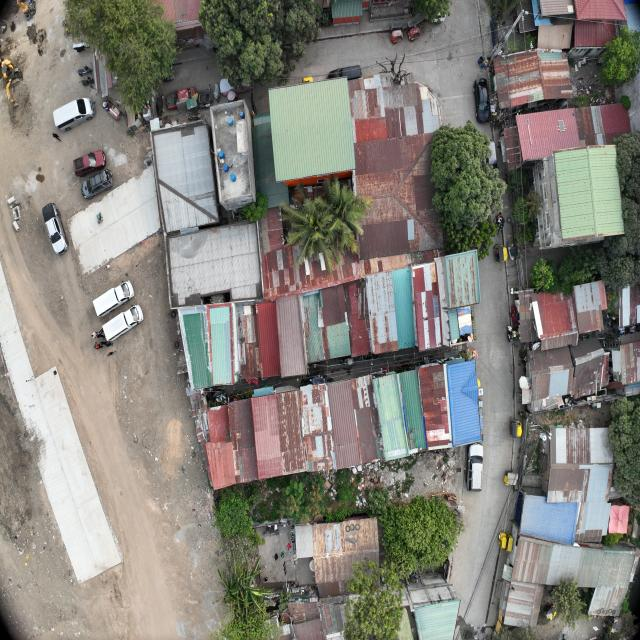Tree: (63, 0, 178, 118), (200, 0, 324, 90), (431, 120, 507, 232), (283, 176, 372, 271), (384, 494, 466, 586), (341, 557, 405, 640), (215, 547, 281, 625), (609, 394, 640, 513), (446, 218, 498, 271), (594, 237, 640, 295), (600, 25, 640, 91), (217, 487, 260, 547), (553, 575, 593, 634), (605, 194, 640, 260), (280, 480, 326, 526), (611, 133, 640, 203), (532, 256, 555, 295)
